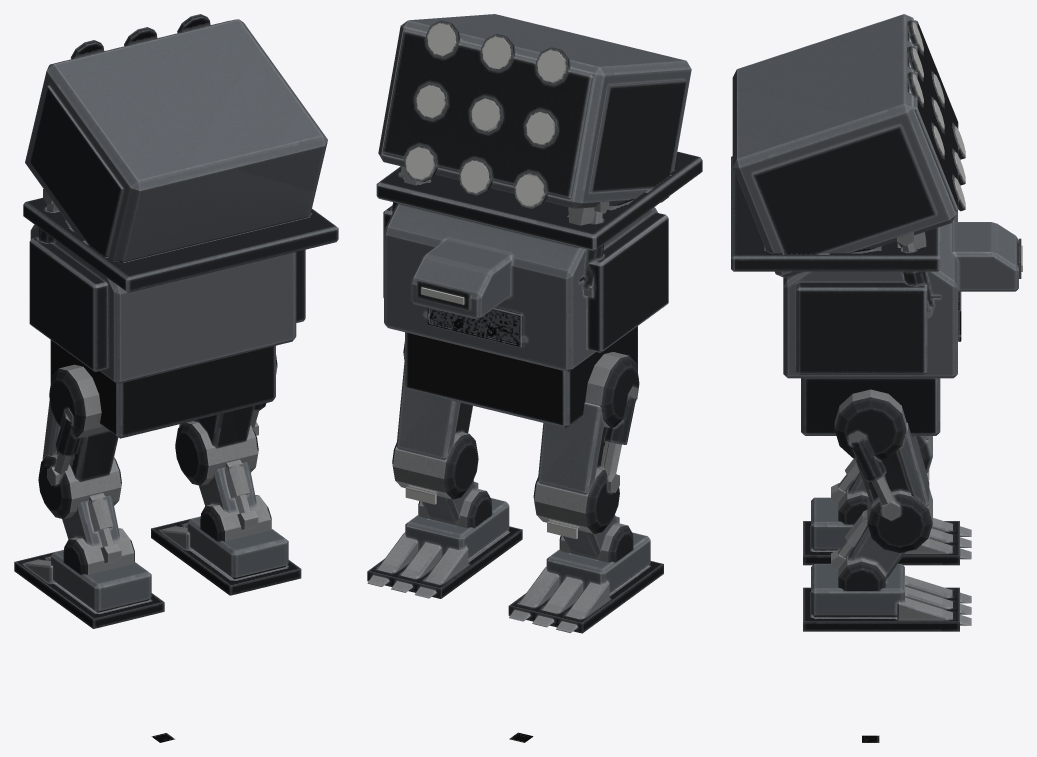
The model's file is chs_wrath.fbx.
3 renders of one model, left to right at view 1: azimuth 30°, elevation 25°; view 2: azimuth 150°, elevation 25°; view 3: azimuth 270°, elevation 25°, orthographic. The views are drawn at different scales.
Visible parts, largest first — view 1: launcher_bar, torso_bar, base_bar, thighL_bar, footR_bar, footL_bar, thighR_bar, shinR_bar, shinL_bar; view 2: torso_bar, launcher_bar, thighL_bar, base_bar, footR_bar, footL_bar, thighR_bar, launcher_glow_weapon_bar, shinL_bar, shinR_bar; view 3: launcher_bar, torso_bar, thighR_bar, footR_bar, base_bar, footL_bar, shinR_bar, shinL_bar, launcher_glow_weapon_bar.
Part boxes in pixels (bbox=[...]): launcher_bar: bbox=[25, 14, 327, 283]; torso_bar: bbox=[23, 189, 338, 383]; base_bar: bbox=[50, 340, 275, 438]; thighL_bar: bbox=[38, 364, 121, 519]; footR_bar: bbox=[151, 516, 301, 595]; footL_bar: bbox=[14, 550, 164, 628]; thighR_bar: bbox=[175, 355, 277, 485]; shinR_bar: bbox=[199, 459, 271, 541]; shinL_bar: bbox=[62, 493, 134, 574]; torso_bar: bbox=[376, 151, 702, 371]; launcher_bar: bbox=[378, 14, 691, 225]; thighL_bar: bbox=[533, 352, 639, 533]; base_bar: bbox=[405, 326, 637, 428]; footR_bar: bbox=[367, 498, 522, 598]; footL_bar: bbox=[508, 532, 663, 633]; thighR_bar: bbox=[392, 342, 478, 499]; launcher_glow_weapon_bar: bbox=[405, 23, 565, 206]; shinL_bar: bbox=[559, 515, 633, 562]; shinR_bar: bbox=[418, 480, 491, 528]; launcher_bar: bbox=[732, 14, 965, 277]; torso_bar: bbox=[731, 156, 1021, 378]; thighR_bar: bbox=[834, 389, 932, 552]; footR_bar: bbox=[803, 564, 971, 631]; base_bar: bbox=[801, 378, 940, 435]; footL_bar: bbox=[803, 497, 971, 565]; shinR_bar: bbox=[831, 510, 905, 590]; shinL_bar: bbox=[831, 458, 868, 524]; launcher_glow_weapon_bar: bbox=[912, 22, 965, 207].
Bounding box in the file's own units: 280 × 874 × 334.
Materials: 2 (2 with a texture image).
